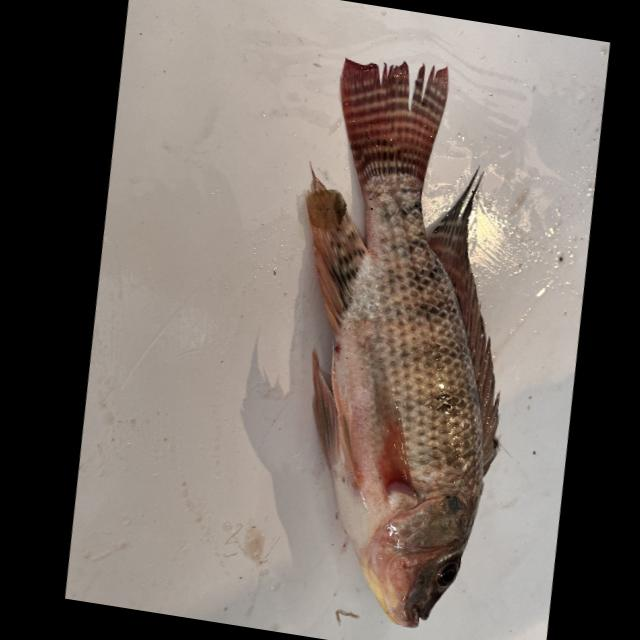Tilapia: (231, 46, 566, 636)
